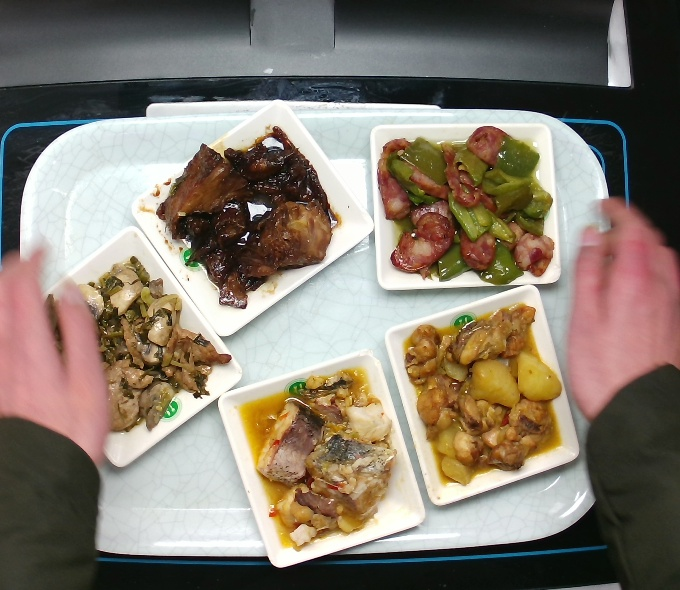wcq-JiangZhiYa: (157, 125, 335, 312)
wcq-QingJiaoXiangChang: (376, 125, 556, 284)
wcq-SuanCaiYu: (237, 368, 396, 549)
wcq-TuDouJiKuai: (401, 300, 564, 486)
